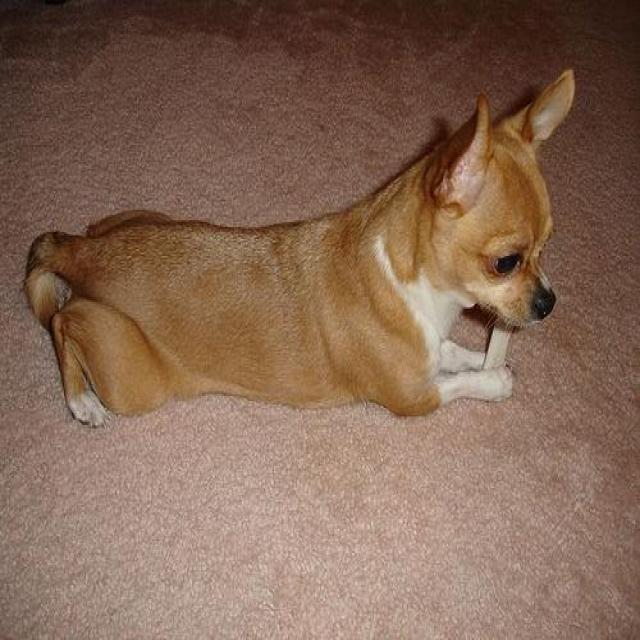relax: (26, 108, 574, 416)
